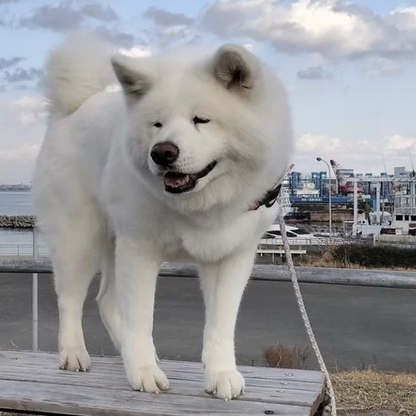akita: (28, 27, 301, 406)
